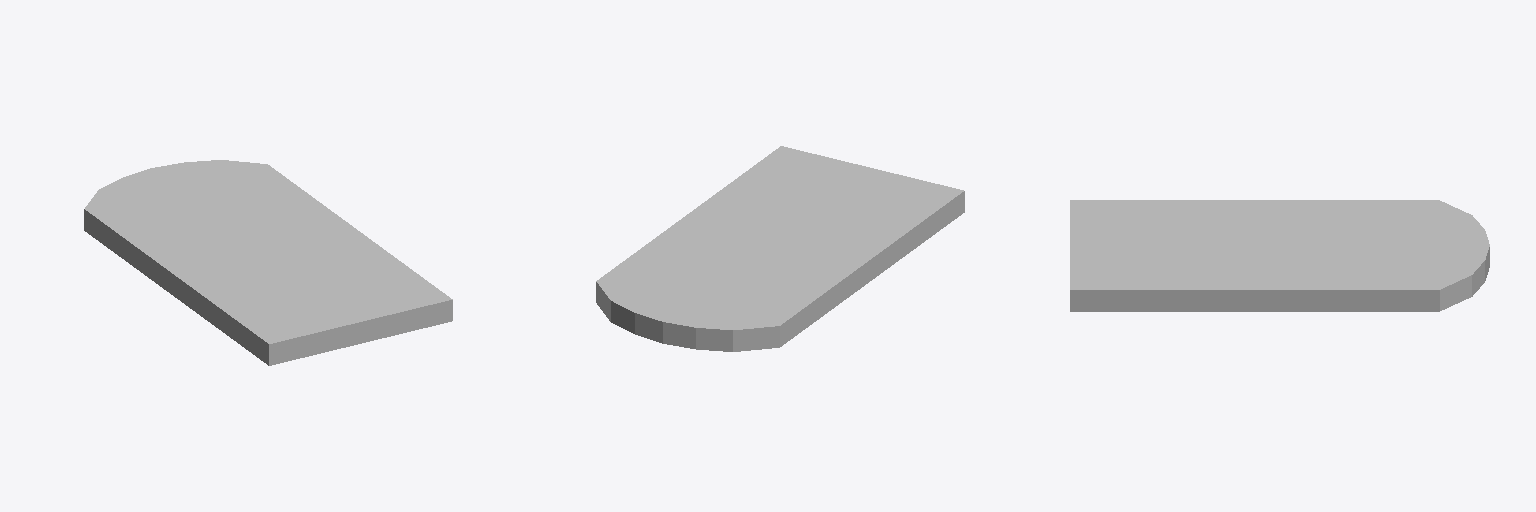
Rendered from door.obj.
3 views of the same model, side by side, from view 1: azimuth 30°, elevation 25°; view 2: azimuth 150°, elevation 25°; view 3: azimuth 270°, elevation 25° (orthographic).
Parts seen in each view (by area): view 1: pCube1; view 2: pCube1; view 3: pCube1.
Boxes of the visible parts, x1,y1,x2,y2 form: pCube1: [84, 160, 452, 365]; pCube1: [596, 146, 964, 351]; pCube1: [1070, 200, 1489, 311].
Bounding box in the file's own units: 2.88 × 0.3264 × 5.7.